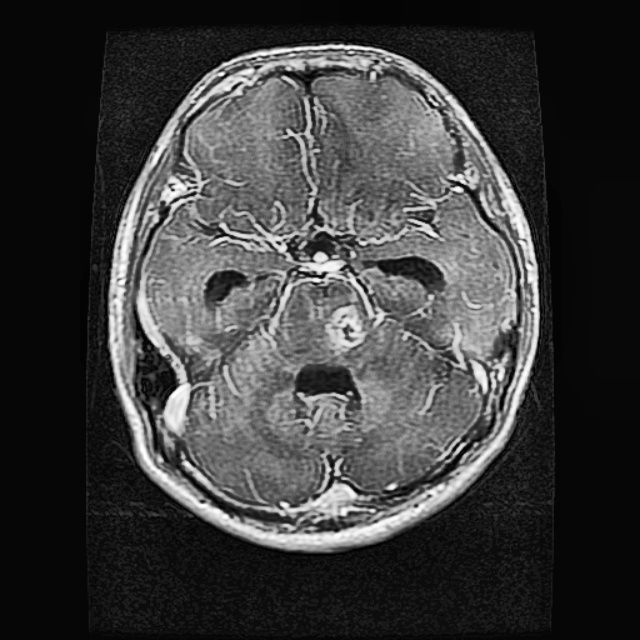Pituitary: (323, 302, 367, 350)
